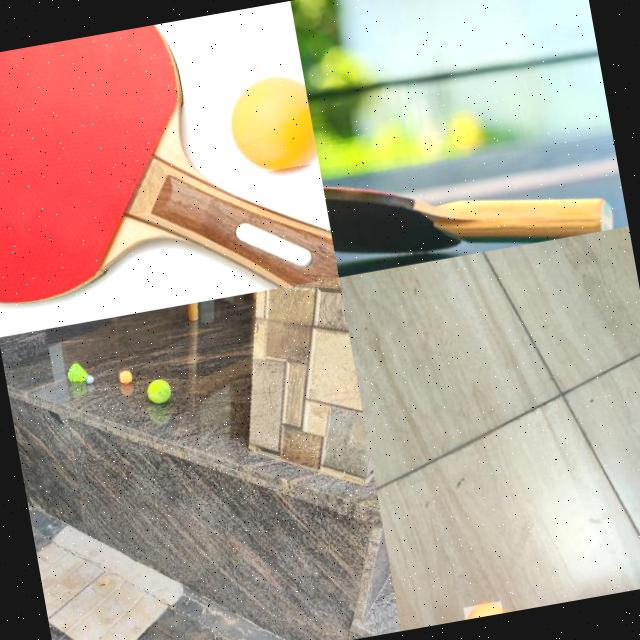ping-pong-ball: (220, 70, 318, 178), (463, 600, 504, 620), (118, 369, 134, 383)
